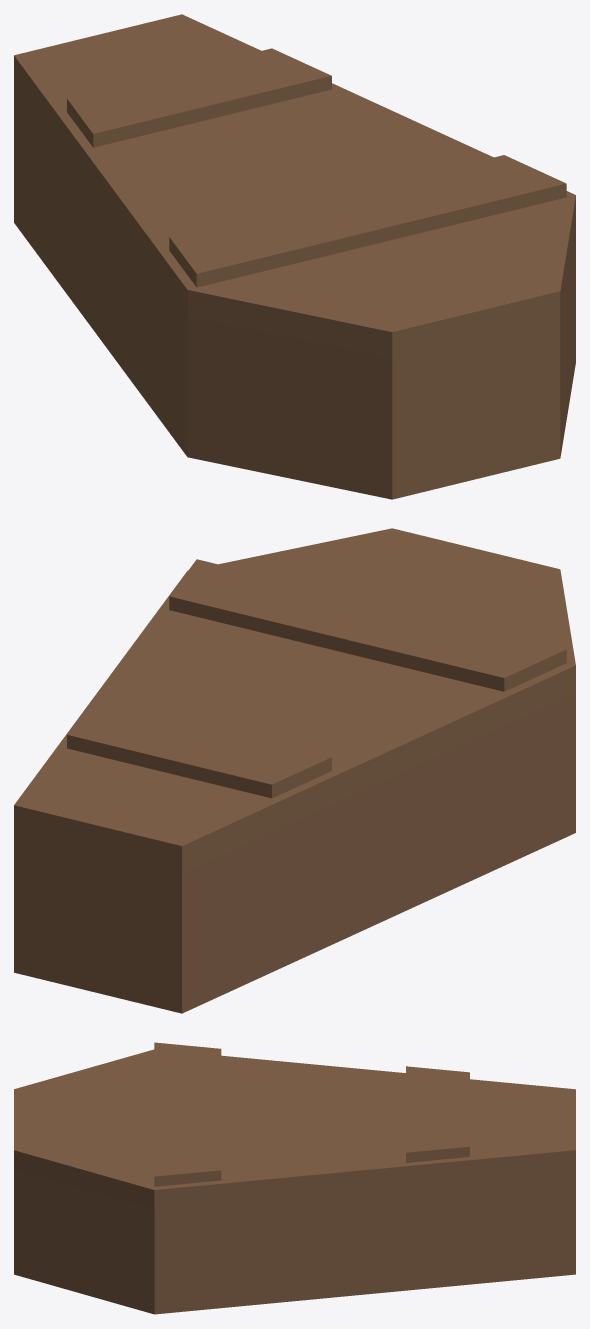
The model's file is gy_coffin.glb.
3 views of the same model, one above another, from view 1: azimuth 30°, elevation 25°; view 2: azimuth 150°, elevation 25°; view 3: azimuth 270°, elevation 25° (orthographic). The views are drawn at different scales.
Parts seen in each view (by area): view 1: gy_coffin2; view 2: gy_coffin2; view 3: gy_coffin2.
Boxes of the visible parts, <box> form: gy_coffin2: <box>14,14,575,499</box>; gy_coffin2: <box>14,528,575,1013</box>; gy_coffin2: <box>14,1042,575,1314</box>.
Bounding box in the file's own units: 1.35 × 0.6 × 2.27.
